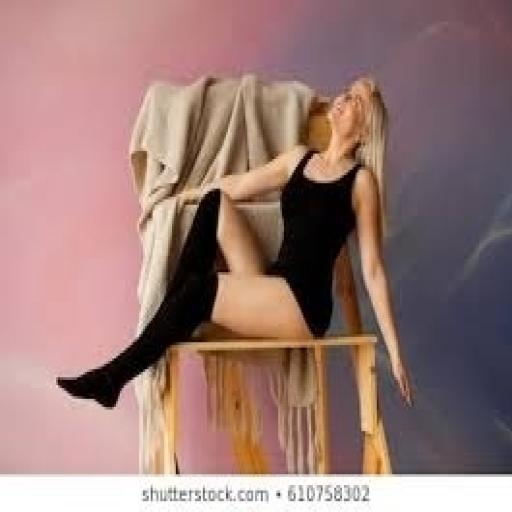sitting: (54, 70, 415, 412)
